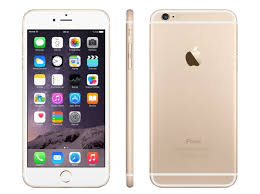iphone: (20, 6, 112, 193), (147, 4, 239, 191)
iphone6: (21, 5, 113, 192), (147, 5, 239, 192)
